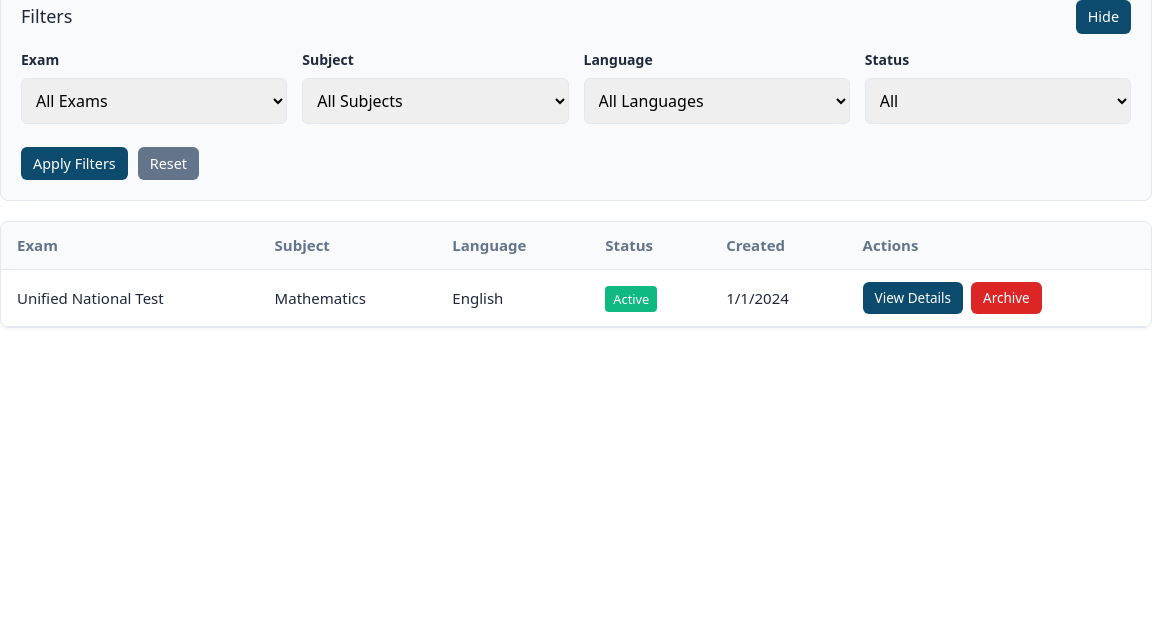
it: CourseTemplatePanel › displays quiz questions when quiz node is expanded
The image size is (1152, 625).
Click the button "View Details" at (913, 298), box [863,282,963,314]
(page scrolled)
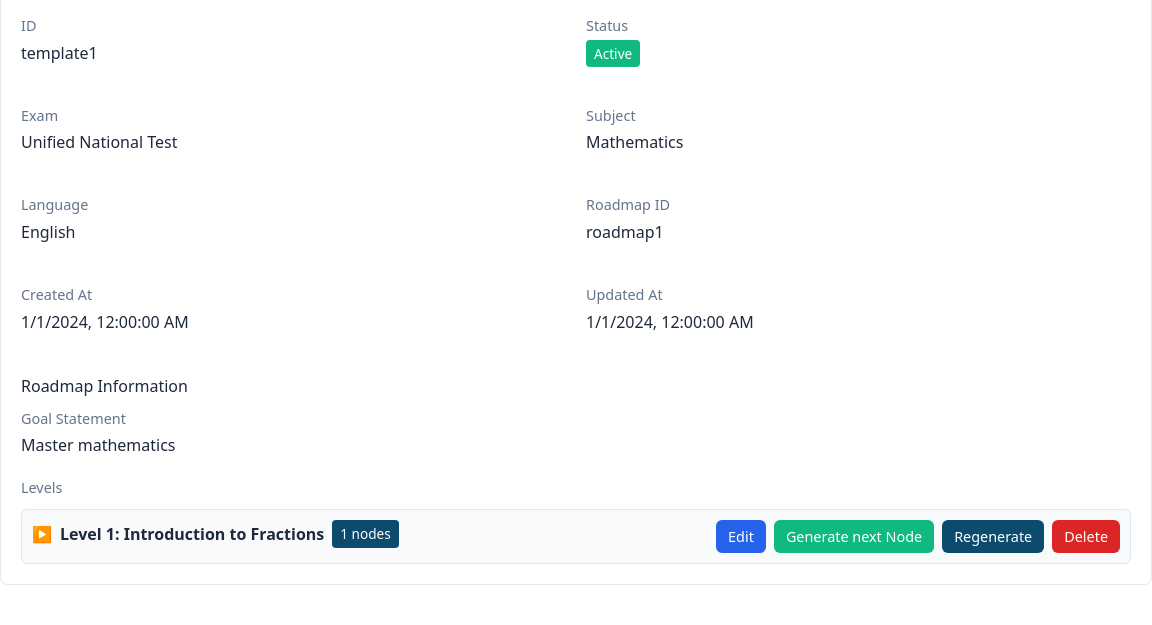
Expected: the text "Level 1: Introduction to Fractions" is shown
# Expand the level
Click the text "Level 1: Introduction to Fractions" at (192, 534), box [60,522,324,546]
(page scrolled)
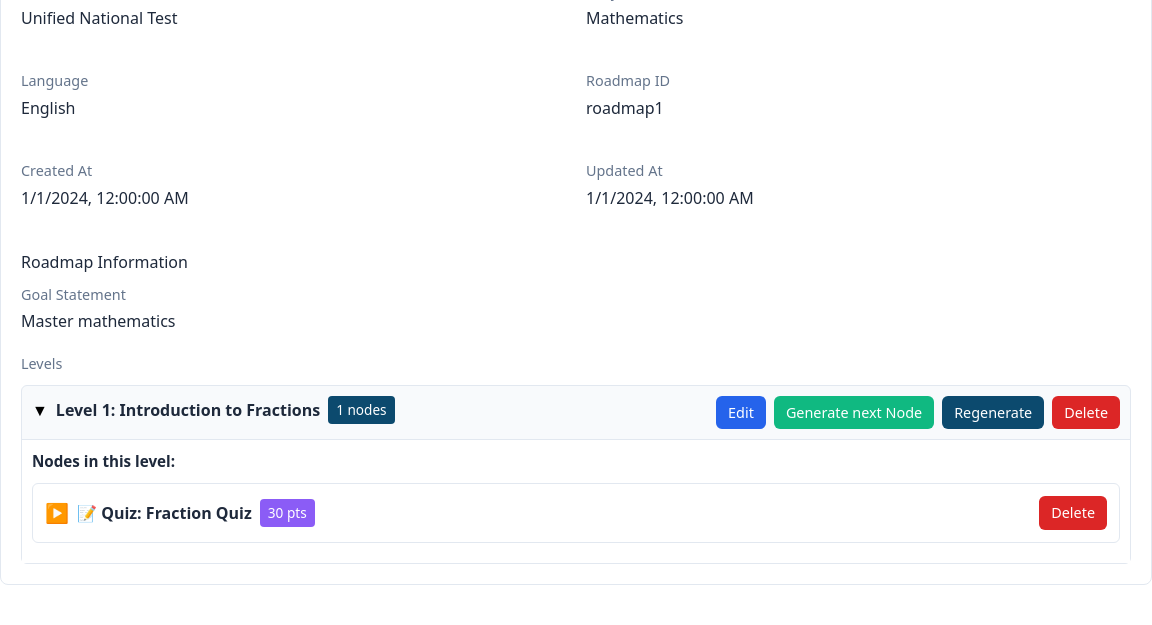
Expected: the text "Quiz Questions (1):" is not shown
Expected: the text "📝 Quiz: Fraction Quiz" is shown
# Click to expand the quiz node
Click the text "📝 Quiz: Fraction Quiz" at (164, 513), box [77,501,252,525]
(page scrolled)
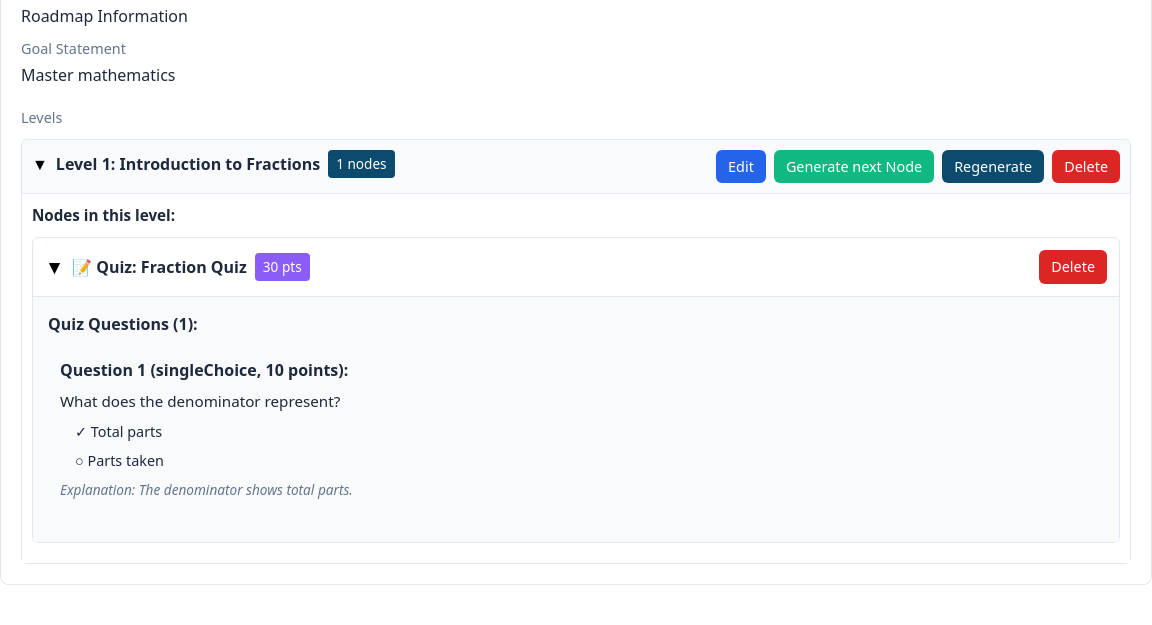
Expected: the text "Quiz Questions (1):" is shown, [48,313,198,335]
Expected: the text "Question 1 (singleChoice, 10 points):" is shown, [60,359,348,381]
Expected: the text "What does the denominator represent?" is shown, [60,391,340,411]
